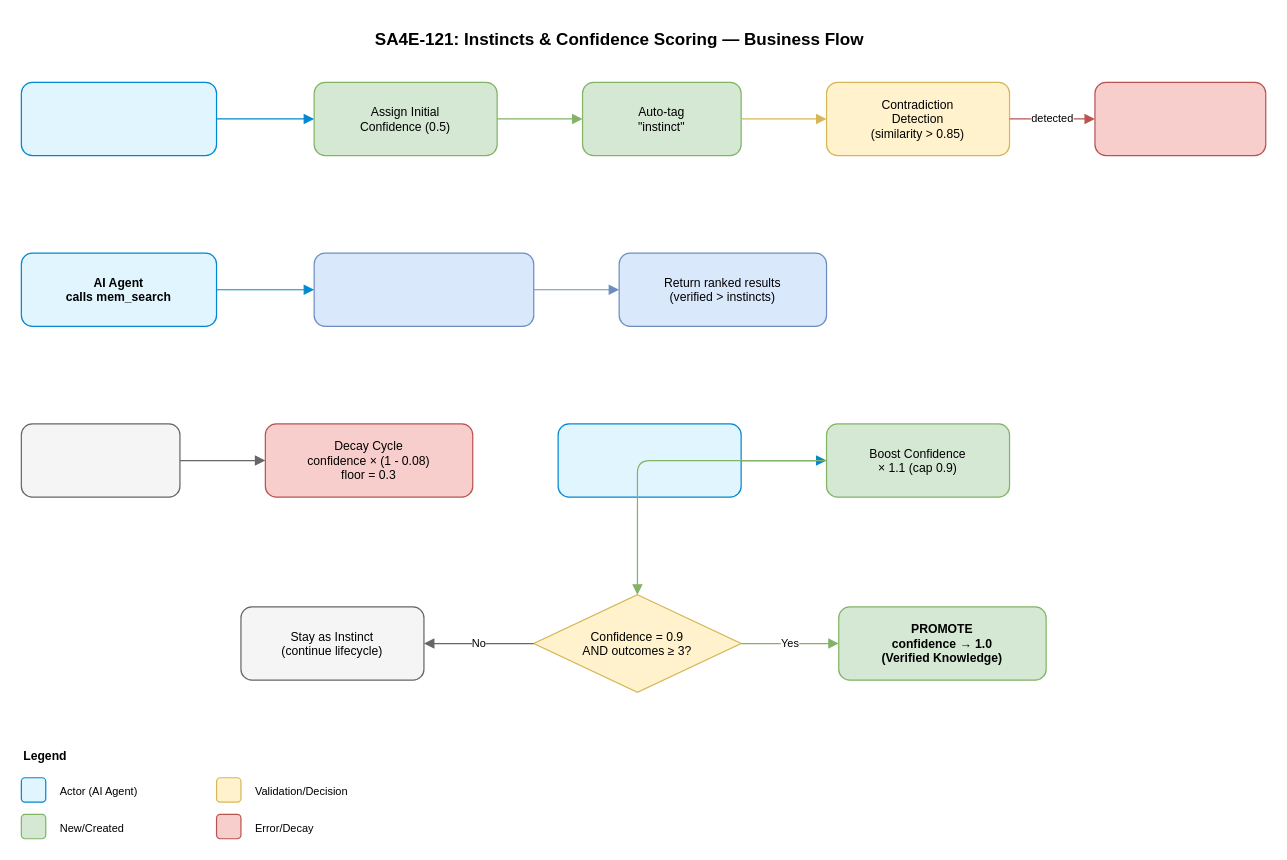
Some shapes in this 1287 by 860 pixel diagram are drawn without their labels. Each missing label, with the centre of its shape:
"AI Agent calls mem_ingest (type: INSTINCT)" belongs at pixel 118 118.
"AI Agent calls mem_outcome (success)" belongs at pixel 649 460.
"Composite Scoring fts_rank × temporal × confidence × outcome" belongs at pixel 423 289.
"Log Contradiction (unresolved)" belongs at pixel 1180 118.
"Scheduler (every 24h)" belongs at pixel 100 460.
